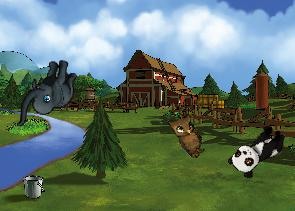elephant: (16, 56, 77, 130)
owl: (163, 107, 215, 160)
panda: (225, 118, 290, 182)
